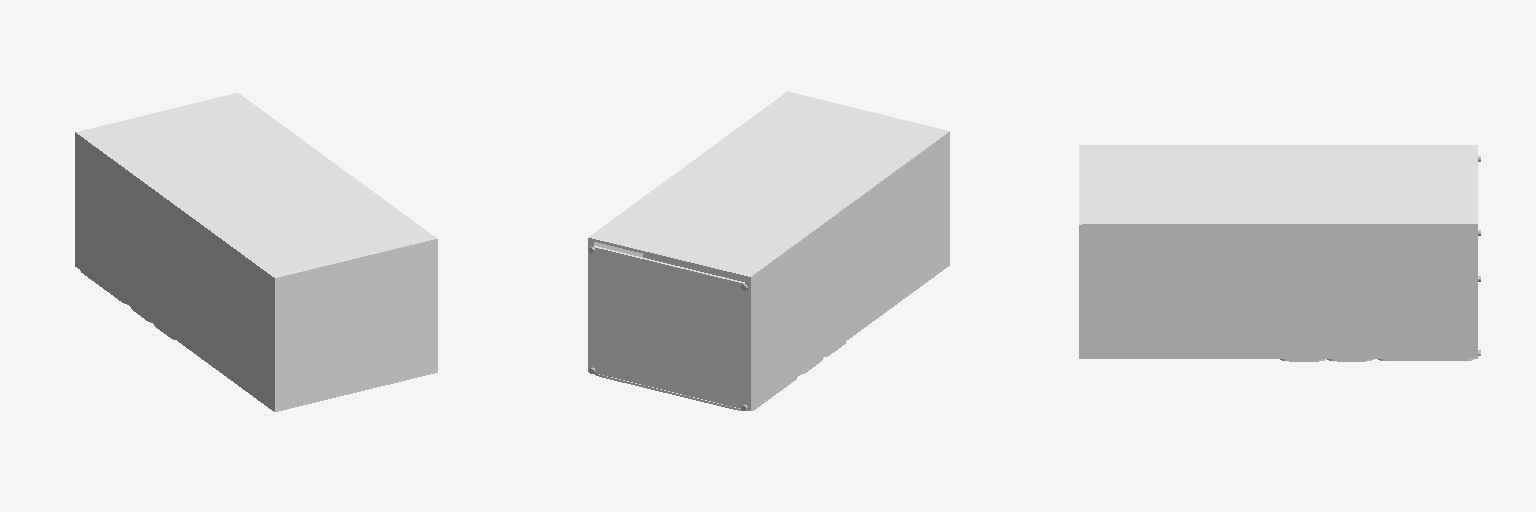
The model's file is StuvaFritidsBookcase_White.obj.
The picture shows the model from 3 angles: view 1: azimuth 30°, elevation 25°; view 2: azimuth 150°, elevation 25°; view 3: azimuth 270°, elevation 25°; orthographic projection.
Parts seen in each view (by area): view 1: obj_0; view 2: obj_0; view 3: obj_0.
Boxes of the visible parts, x1,y1,x2,y2 form: obj_0: [75, 93, 437, 411]; obj_0: [588, 91, 949, 410]; obj_0: [1079, 145, 1480, 361].
Bounding box in the file's own units: 60 × 50 × 128.